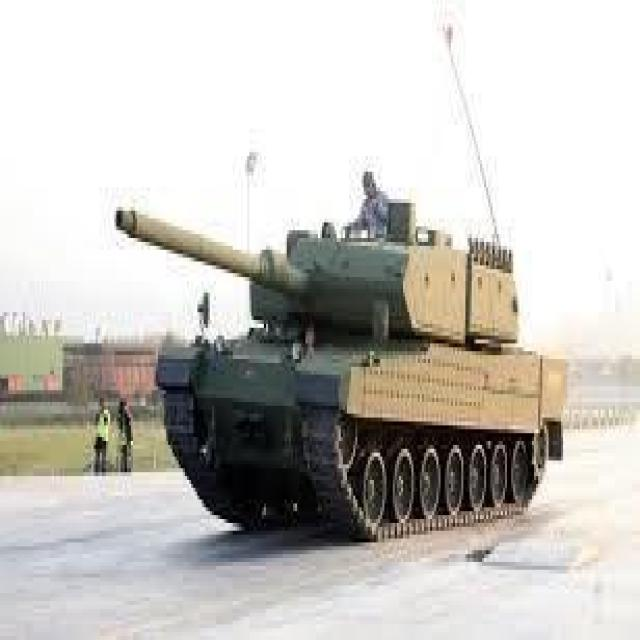Tanks: (86, 74, 570, 597)
